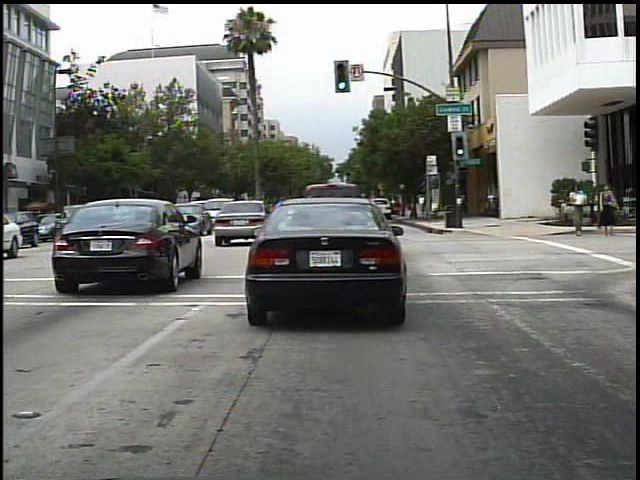person: (564, 178, 591, 240), (593, 180, 620, 238), (412, 186, 429, 218)
